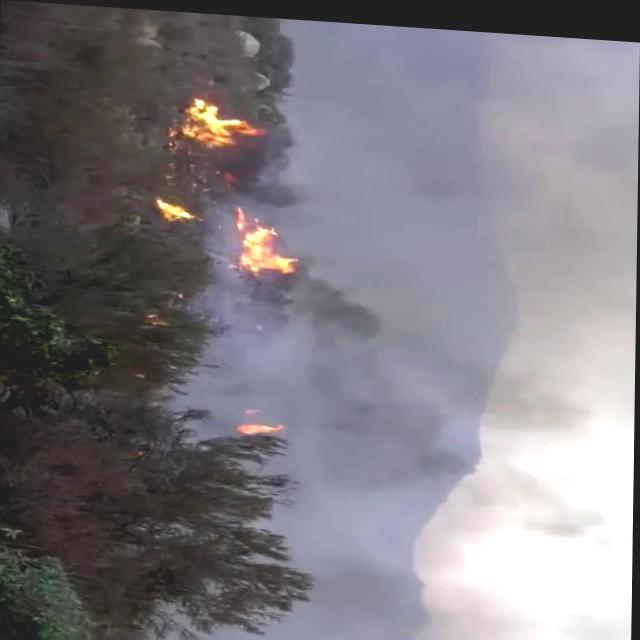fire: (161, 91, 254, 163), (223, 206, 308, 279)
smoke: (219, 259, 462, 357)
